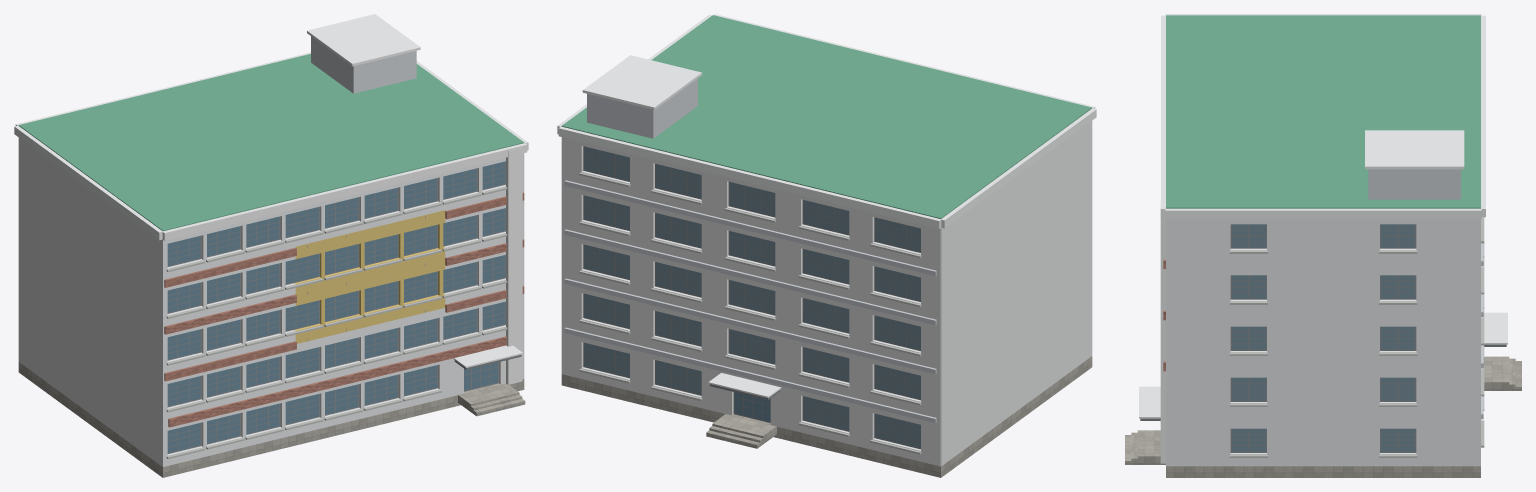
3 views of the same model, side by side, from view 1: azimuth 30°, elevation 25°; view 2: azimuth 150°, elevation 25°; view 3: azimuth 270°, elevation 25° (orthographic). The views are drawn at different scales.
Visible parts, largest first — view 1: east-wing__panel, east-wing__canopy, east-wing__glass, east-wing__cap, east-wing__frame, east-wing__guardbrick, east-wing__yellow, east-wing__sill, east-wing__stone, east-wing__band, east-wing__stair-east-front, east-wing__threshold-east-front; view 2: east-wing__panel, east-wing__canopy, east-wing__sideglass, east-wing__band, east-wing__cap, east-wing__frame, east-wing__stone, east-wing__sill, east-wing__stair-north-rear, east-wing__glass, east-wing__threshold-north-rear; view 3: east-wing__panel, east-wing__canopy, east-wing__cap, east-wing__sideglass, east-wing__stone, east-wing__band, east-wing__frame, east-wing__sill, east-wing__threshold-north-rear, east-wing__stair-east-front, east-wing__stair-north-rear, east-wing__threshold-east-front.
Part boxes in pixels (x1=…): east-wing__panel: x1=18, y1=138, x2=524, y2=466; east-wing__canopy: x1=18, y1=54, x2=524, y2=231; east-wing__glass: x1=167, y1=161, x2=505, y2=452; east-wing__cap: x1=14, y1=14, x2=528, y2=384; east-wing__frame: x1=167, y1=161, x2=505, y2=453; east-wing__guardbrick: x1=164, y1=192, x2=524, y2=427; east-wing__yellow: x1=294, y1=210, x2=445, y2=343; east-wing__sill: x1=166, y1=186, x2=507, y2=459; east-wing__stone: x1=18, y1=362, x2=524, y2=477; east-wing__band: x1=307, y1=36, x2=426, y2=341; east-wing__stair-east-front: x1=468, y1=390, x2=525, y2=416; east-wing__threshold-east-front: x1=458, y1=383, x2=516, y2=409; east-wing__panel: x1=561, y1=121, x2=1092, y2=466; east-wing__canopy: x1=561, y1=15, x2=1092, y2=218; east-wing__sideglass: x1=584, y1=146, x2=920, y2=448; east-wing__band: x1=564, y1=78, x2=936, y2=423; east-wing__cap: x1=557, y1=14, x2=1096, y2=398; east-wing__frame: x1=583, y1=146, x2=920, y2=449; east-wing__stone: x1=561, y1=356, x2=1092, y2=477; east-wing__sill: x1=579, y1=172, x2=921, y2=454; east-wing__stair-north-rear: x1=706, y1=421, x2=766, y2=448; east-wing__glass: x1=734, y1=392, x2=770, y2=421; east-wing__threshold-north-rear: x1=715, y1=414, x2=776, y2=441; east-wing__panel: x1=1166, y1=219, x2=1480, y2=466; east-wing__canopy: x1=1166, y1=15, x2=1480, y2=208; east-wing__cap: x1=1139, y1=14, x2=1507, y2=463; east-wing__sideglass: x1=1232, y1=224, x2=1414, y2=451; east-wing__stone: x1=1166, y1=466, x2=1480, y2=477; east-wing__band: x1=1368, y1=169, x2=1483, y2=419; east-wing__frame: x1=1230, y1=224, x2=1416, y2=452; east-wing__sill: x1=1229, y1=217, x2=1484, y2=457; east-wing__threshold-north-rear: x1=1483, y1=356, x2=1502, y2=390; east-wing__stair-east-front: x1=1125, y1=430, x2=1143, y2=464; east-wing__stair-north-rear: x1=1503, y1=356, x2=1521, y2=390; east-wing__threshold-east-front: x1=1144, y1=430, x2=1165, y2=464.
Bounding box in the file's own units: 28.1 × 20.28 × 23.94.
Materials: 13 (2 with a texture image).
